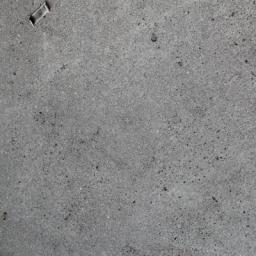FOD: (29, 2, 55, 30)
